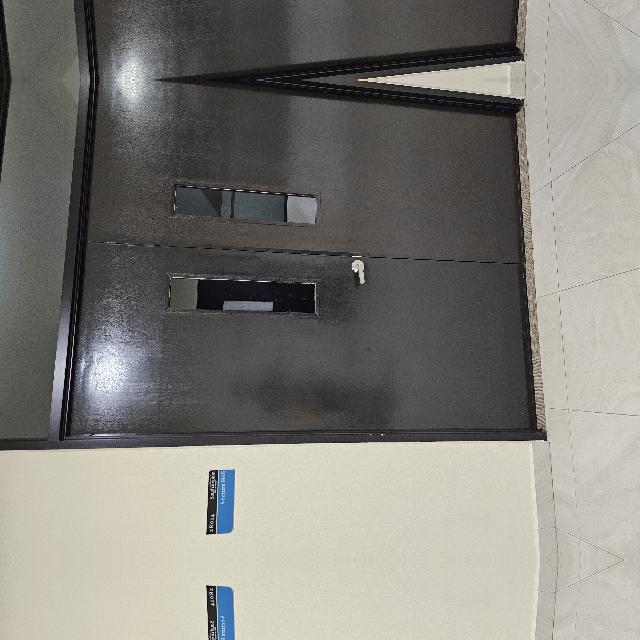door: (116, 138, 468, 614), (115, 506, 468, 640), (115, 0, 468, 21)
